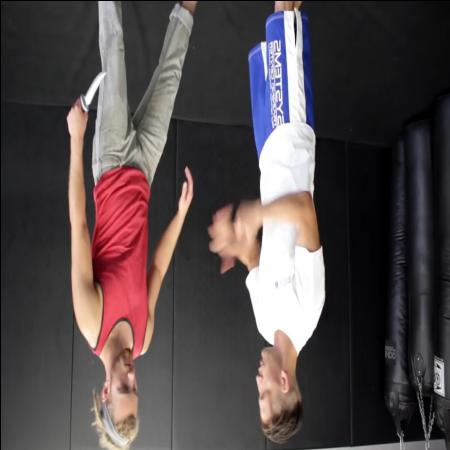long weapon: (64, 60, 110, 125)
